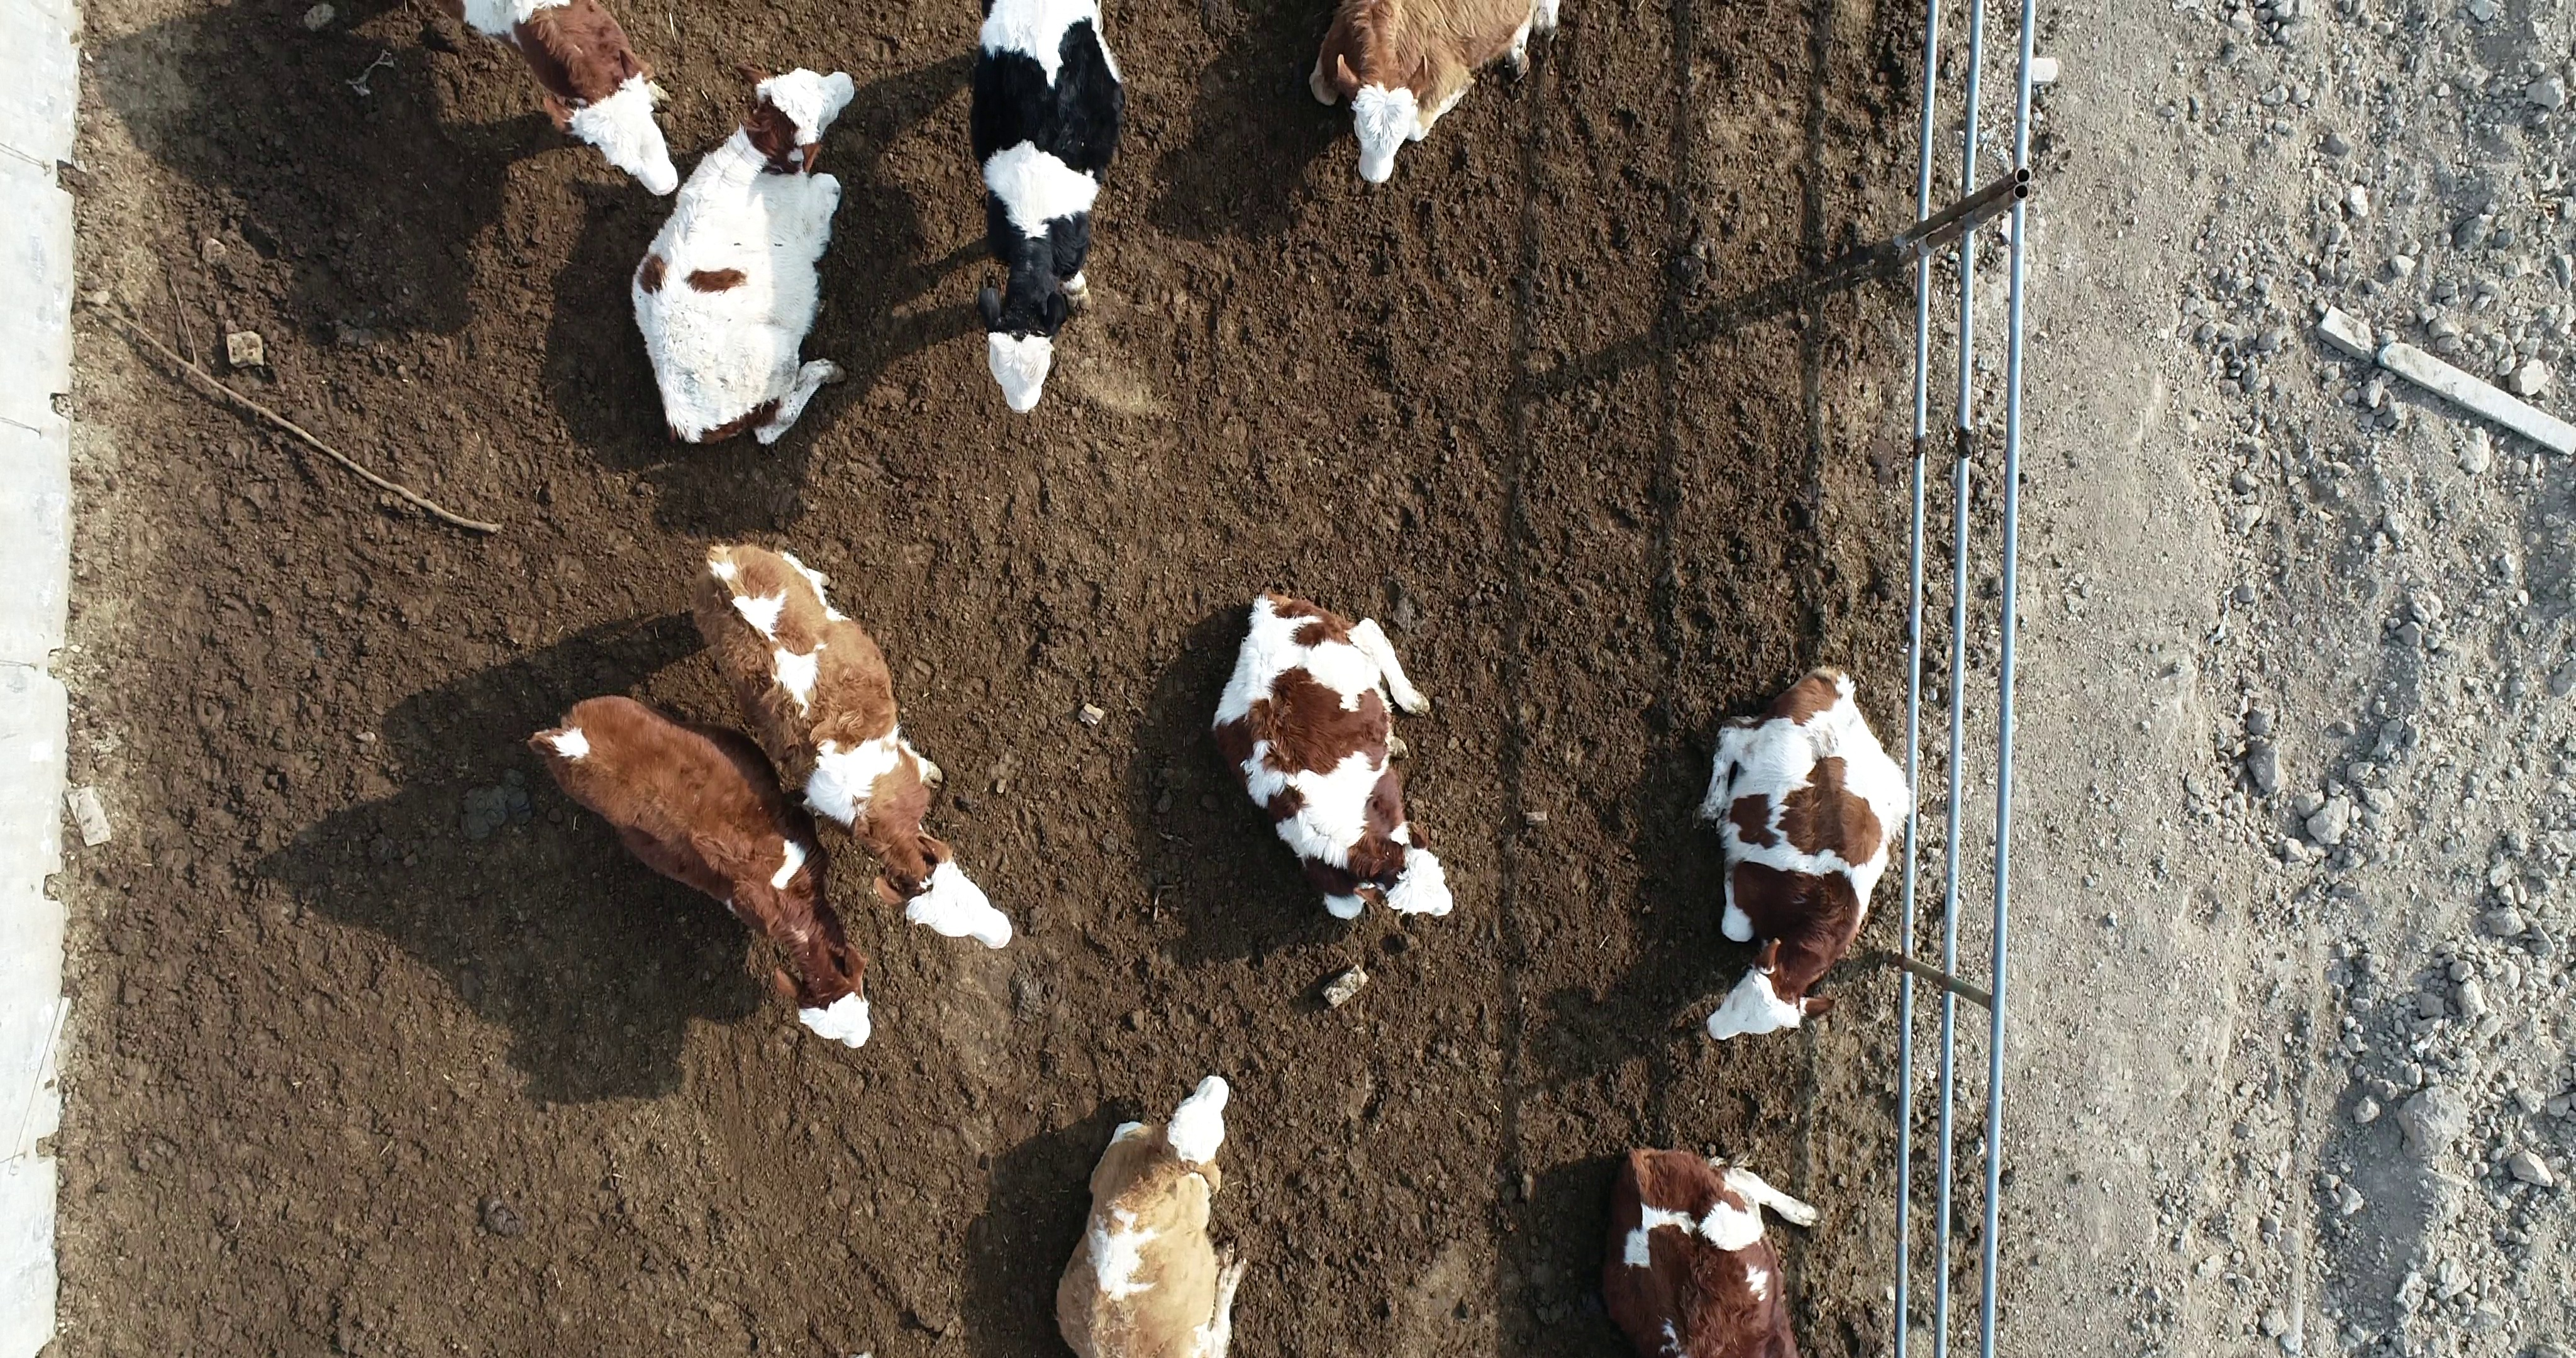cattle: (680, 538, 1017, 958), (511, 693, 879, 1070), (1205, 578, 1467, 942), (624, 61, 860, 448), (1685, 659, 1917, 1046), (1049, 1073, 1249, 1358)
